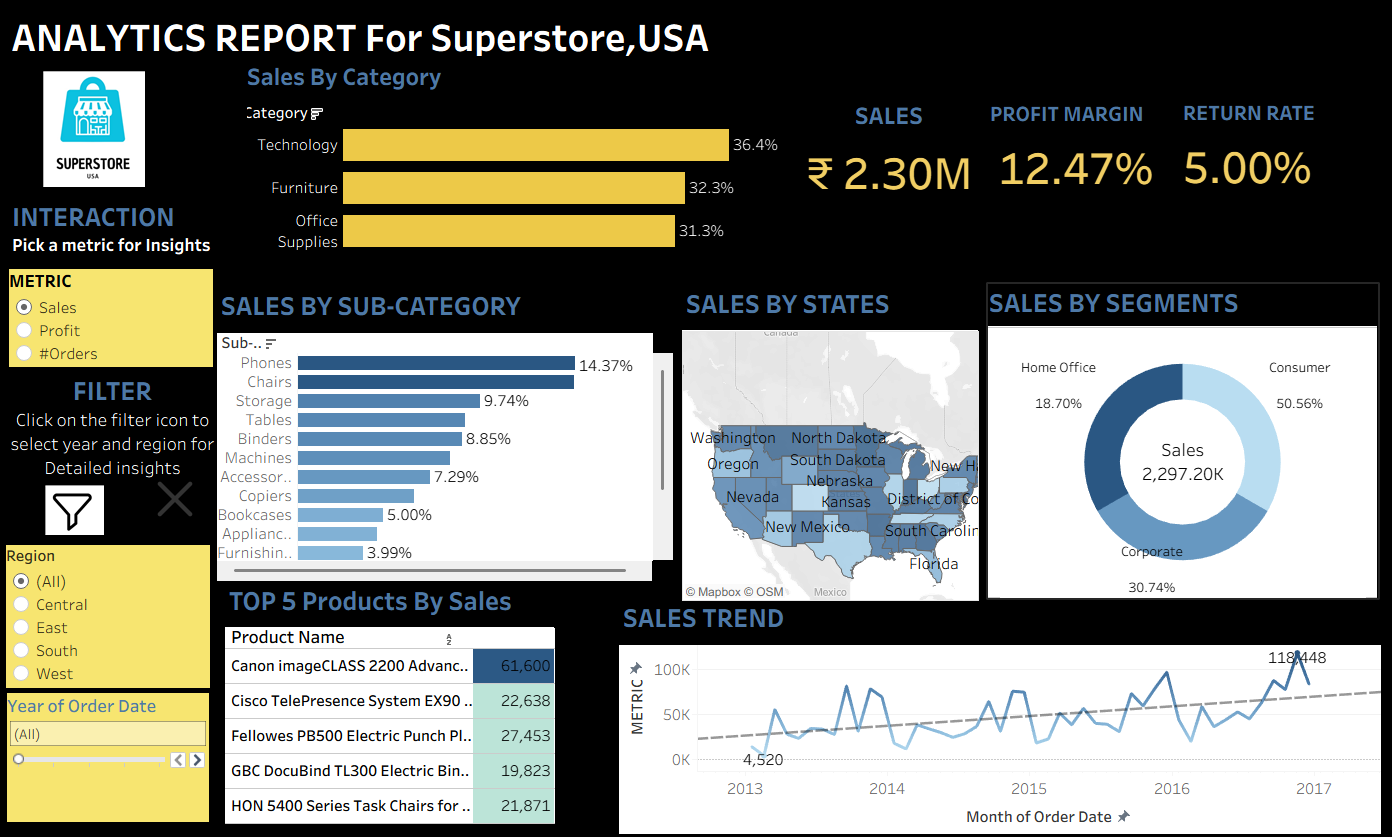

What the dashboard file says about the page in this screenshot:
{"tool":"tableau","page":{"name":"A(7)Dashboard","canvas":[1400,900],"ordinal":0},"visuals":[{"type":"title","box":[8,8,1384,58]},{"type":"worksheet","title":"SALES BY CAT","mark":"Automatic","rows":["Category"],"cols":["Calculation_978688515904909326"],"box":[247,57,558,221]},{"type":"image","param":"Image/superstore.png","box":[47,72,204,116]},{"type":"worksheet","title":"RETURN","mark":"Automatic","box":[1183,95,189,106]},{"type":"worksheet","title":"SALES","mark":"Automatic","box":[803,96,193,113]},{"type":"worksheet","title":"PROFIT MARGIN","mark":"Automatic","box":[990,96,205,101]},{"type":"worksheet","title":"INT","mark":"Automatic","box":[12,196,241,61]},{"type":"parameter","param":"[Parameters].[Parameter 3]","box":[13,270,204,98]},{"type":"worksheet","title":"SALES BY STATES","mark":"Multipolygon","box":[686,283,297,319]},{"type":"worksheet","title":"SALES BY SC","mark":"Automatic","rows":["Sub-Category"],"cols":["Calculation_978688515904909326"],"box":[221,285,456,297]},{"type":"worksheet","title":"SALES BY SEGMENTS","mark":"Pie","rows":["Calculation_978688515898179592","Calculation_978688515898499084"],"box":[992,285,390,314]},{"type":"worksheet","title":"FILTER","mark":"Automatic","box":[10,370,213,157]},{"type":"dashboard-object","box":[151,474.3,56,52.2]},{"type":"image","param":"Image/FILTER.png","box":[19,486,120,50]},{"type":"filter","title":"SALES BY STATES","param":"[federated.0h3m5r5021elmg1cimlc9174javx].[none:Region:nk]","box":[10,546,204,143]},{"type":"worksheet","title":"TOP 5","mark":"Automatic","rows":["Product Name"],"box":[229,580,453,260]},{"type":"worksheet","title":"SALES TREND","mark":"Line","rows":["Calculation_978688515904909326"],"cols":["Order Date"],"box":[623,597,762,238]},{"type":"filter","title":"SALES TREND","param":"[federated.0h3m5r5021elmg1cimlc9174javx].[yr:Order Date:ok]","box":[11,694,202,129]}]}

Visuals, with their boxes on the page's 1400x900 design canvas (x1, y1, x2, y2). These are canvas units, not pixel positions in the 1392x837 screenshot, which may show the page scaled, cropped or inside an application window:
title: (8,8,1392,66)
"SALES BY CAT" worksheet: (247,57,805,278)
image: (47,72,251,188)
"RETURN" worksheet: (1183,95,1372,201)
"SALES" worksheet: (803,96,996,209)
"PROFIT MARGIN" worksheet: (990,96,1195,197)
"INT" worksheet: (12,196,253,257)
parameter: (13,270,217,368)
"SALES BY STATES" worksheet (Multipolygon marks): (686,283,983,602)
"SALES BY SC" worksheet: (221,285,677,582)
"SALES BY SEGMENTS" worksheet (Pie marks): (992,285,1382,599)
"FILTER" worksheet: (10,370,223,527)
dashboard-object: (151,474,207,526)
image: (19,486,139,536)
"SALES BY STATES" filter: (10,546,214,689)
"TOP 5" worksheet: (229,580,682,840)
"SALES TREND" worksheet (Line marks): (623,597,1385,835)
"SALES TREND" filter: (11,694,213,823)
